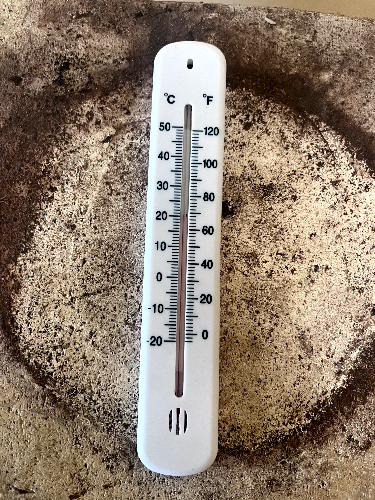thermo: (134, 41, 230, 466)
